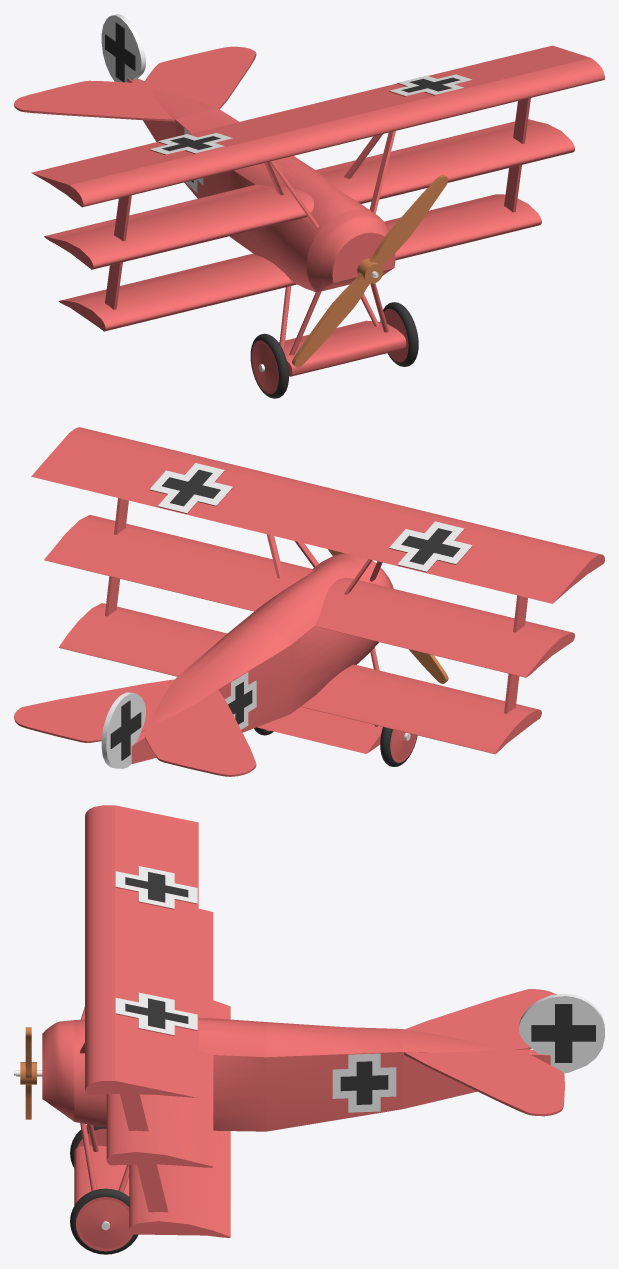
Rendered from fokker.glb.
The picture shows the model from 3 angles, top to bottom: view 1: azimuth 30°, elevation 25°; view 2: azimuth 150°, elevation 25°; view 3: azimuth 270°, elevation 25°; orthographic projection. The views are drawn at different scales.
Parts seen in each view (by area): view 1: Fokker I; view 2: Fokker I; view 3: Fokker I.
Boxes of the visible parts, x1,y1,x2,y2 form: Fokker I: (14, 14, 604, 398); Fokker I: (14, 427, 604, 776); Fokker I: (14, 805, 604, 1254).
Bounding box in the file's own units: 0.5551 × 0.2608 × 0.5032.
